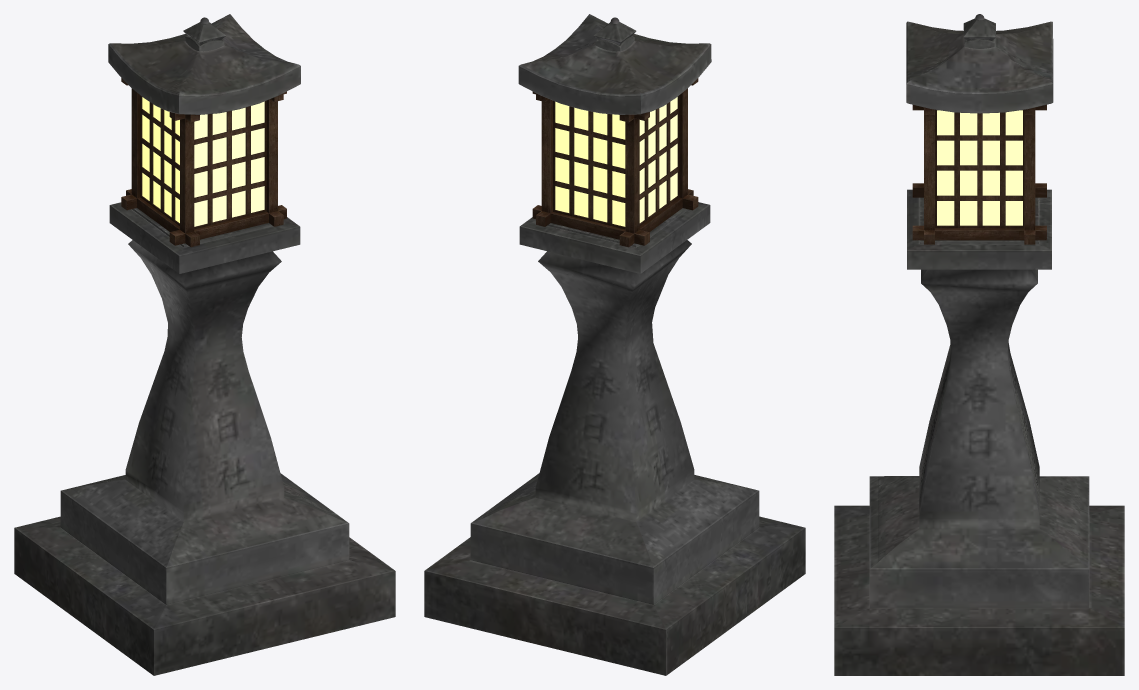
The model's file is lantern.glb.
3 renders of one model, left to right at view 1: azimuth 30°, elevation 25°; view 2: azimuth 150°, elevation 25°; view 3: azimuth 270°, elevation 25°, orthographic. The views are drawn at different scales.
Parts seen in each view (by area): view 1: Cube.024_stone_0, Cube.026_paper_0, Cube.025_wood_0, Cube.026_wood_lantern_0; view 2: Cube.024_stone_0, Cube.026_paper_0, Cube.025_wood_0, Cube.026_wood_lantern_0; view 3: Cube.024_stone_0, Cube.026_paper_0, Cube.025_wood_0, Cube.026_wood_lantern_0.
Boxes of the visible parts, x1,y1,x2,y2 form: Cube.024_stone_0: [14, 14, 395, 675]; Cube.026_paper_0: [142, 97, 264, 226]; Cube.025_wood_0: [121, 78, 286, 247]; Cube.026_wood_lantern_0: [140, 95, 266, 229]; Cube.024_stone_0: [424, 14, 805, 675]; Cube.026_paper_0: [555, 97, 677, 226]; Cube.025_wood_0: [532, 78, 698, 247]; Cube.026_wood_lantern_0: [553, 95, 679, 229]; Cube.024_stone_0: [834, 14, 1124, 675]; Cube.026_paper_0: [937, 110, 1022, 225]; Cube.025_wood_0: [912, 104, 1046, 244]; Cube.026_wood_lantern_0: [935, 110, 1024, 228].
Bounding box in the file's own units: 64.01 × 146 × 64.01.
4 materials, 3 textured.
